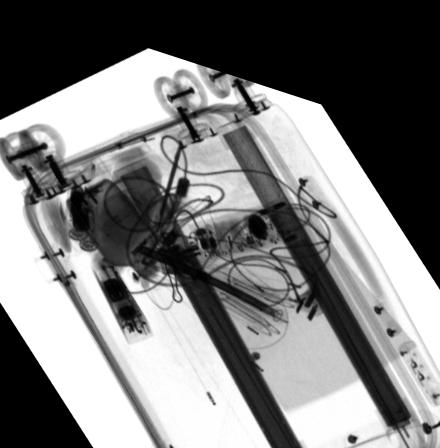Knife: (146, 127, 182, 242)
